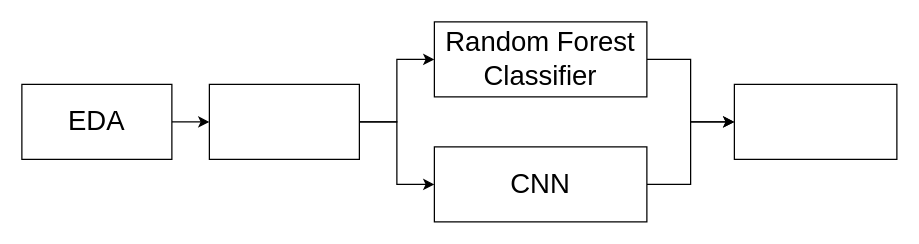
Image size: 919x244. Some labels were removed from this diagram. The shapes that lost their labels are listed below. From the top down, each one's centre as x and y in pixels, then its label:
At pixel 283 121: "Logit (Baseline)".
At pixel 815 121: "Choice and Disscussion".
